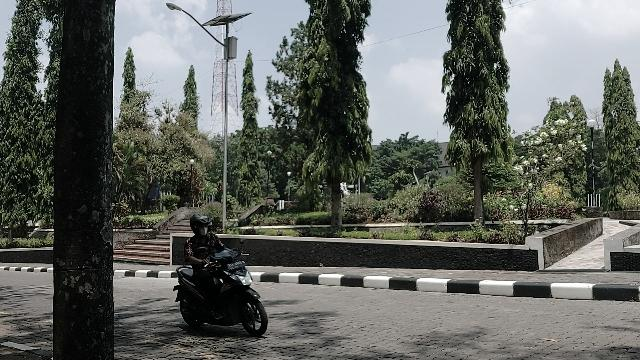helm: (190, 213, 215, 239)
motor: (173, 238, 270, 339)
